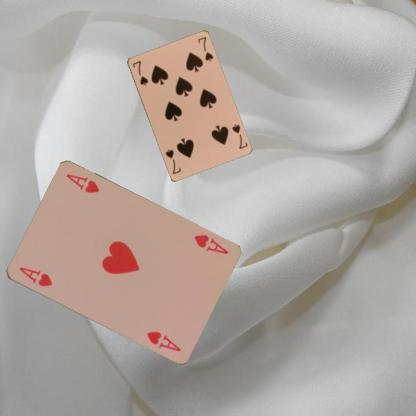7s: (129, 58, 149, 86), (230, 122, 248, 150)
Ah: (16, 264, 53, 288), (192, 232, 230, 255)
